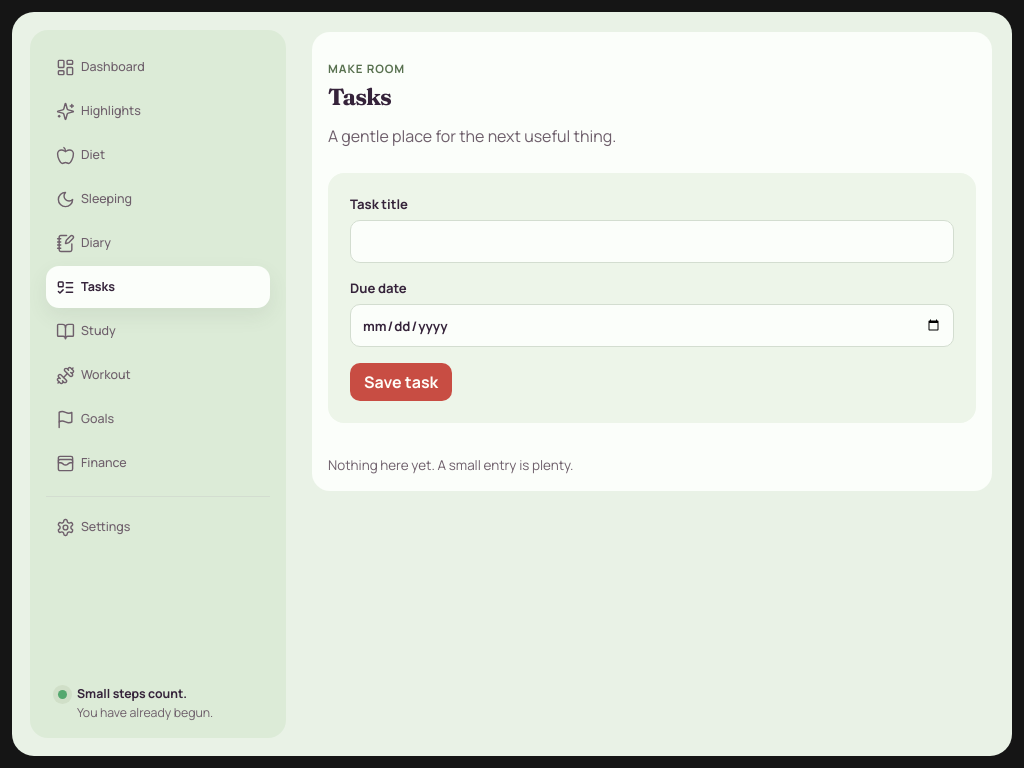
Test: demo module routes › renders a local-only Tasks page at the demo module route
Type "Call Mum" into the field labelled "Task title" at (652, 242), box [350,220,954,263]
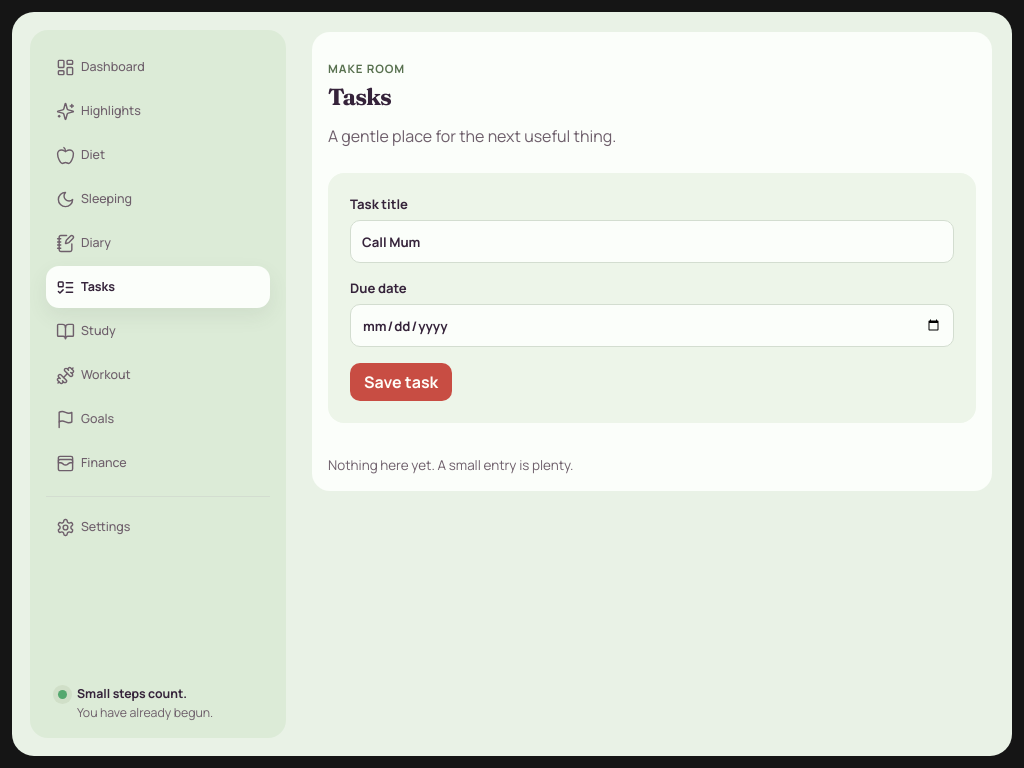
Click the button "Save task" at (401, 382), box [350,363,452,401]
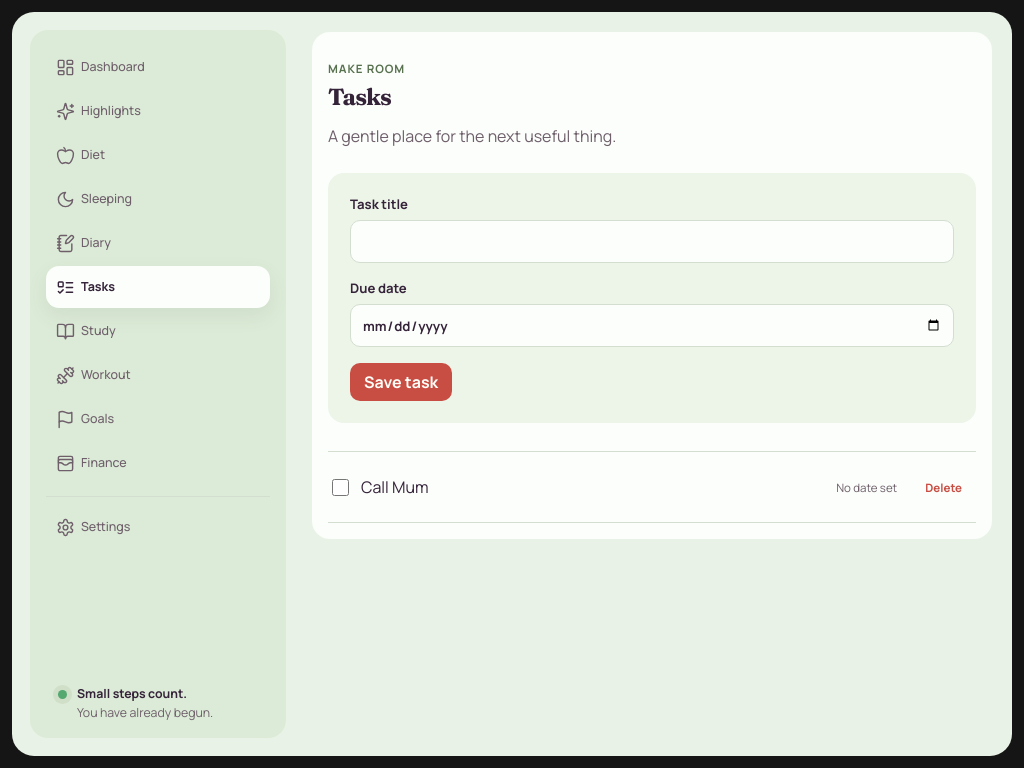
Expected: the heading "Tasks" is shown, [328,82,391,111]
Result: the text "Call Mum" is shown at [361,476,428,498]
